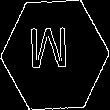M_S: (34, 29, 76, 81)
